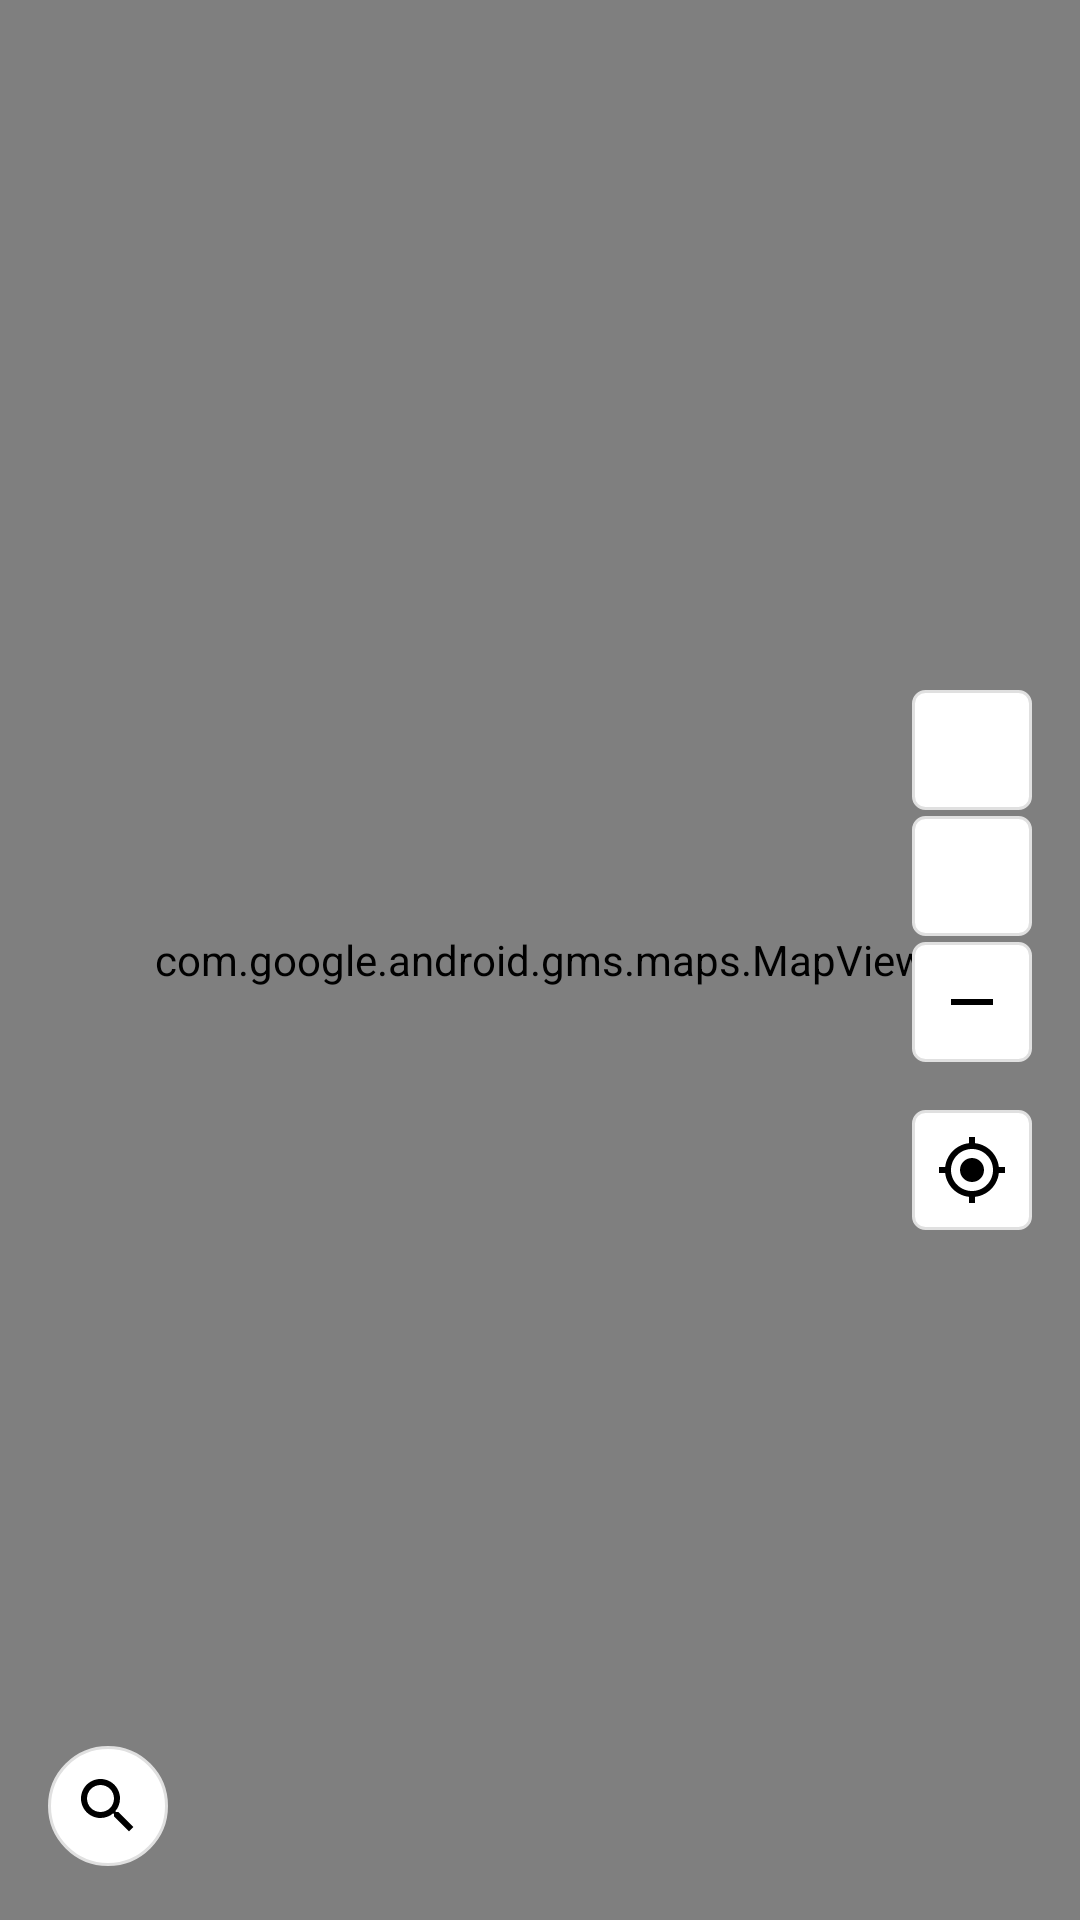

Icon click points for this 1080w x 1920h phone screenshot, format (x,y):
My Location: (972,1170)
search: (108,1806)
Zoom Out: (972,1002)
